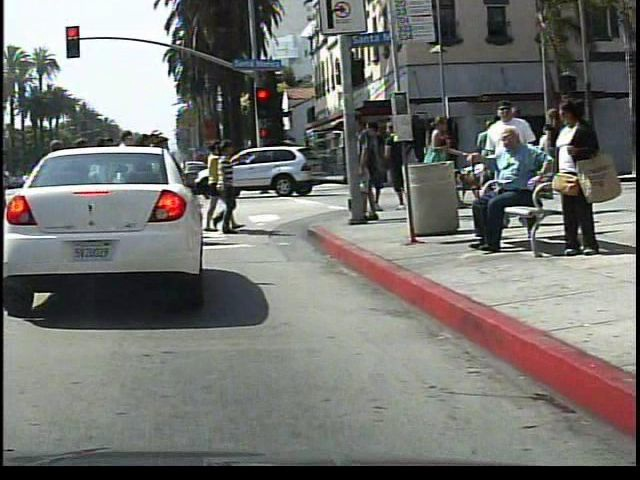person: (457, 126, 551, 257), (537, 94, 600, 268), (411, 108, 458, 213), (285, 145, 311, 196)
